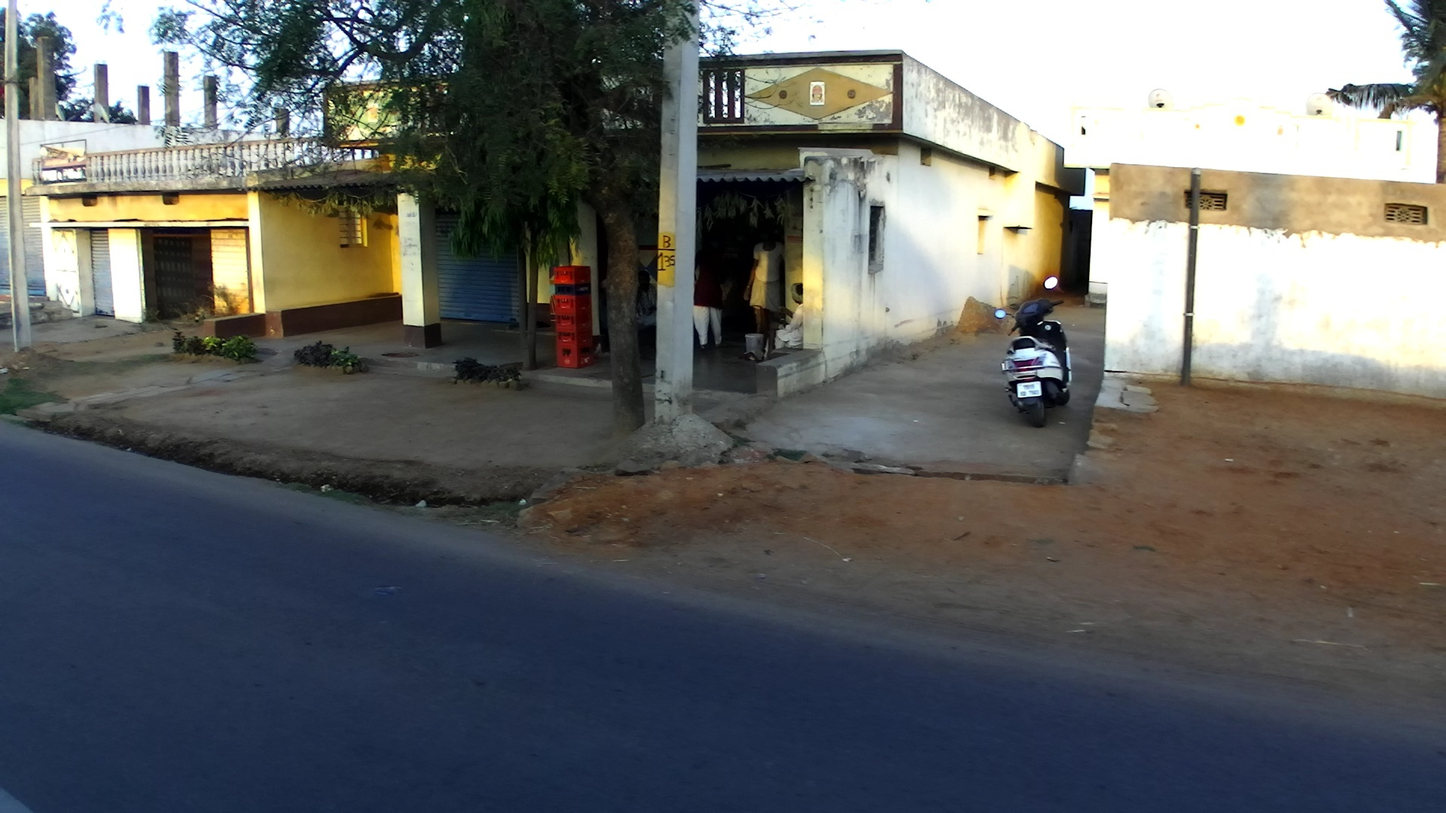motorcycle: (990, 272, 1073, 430)
person: (746, 223, 792, 359), (683, 241, 728, 358)
